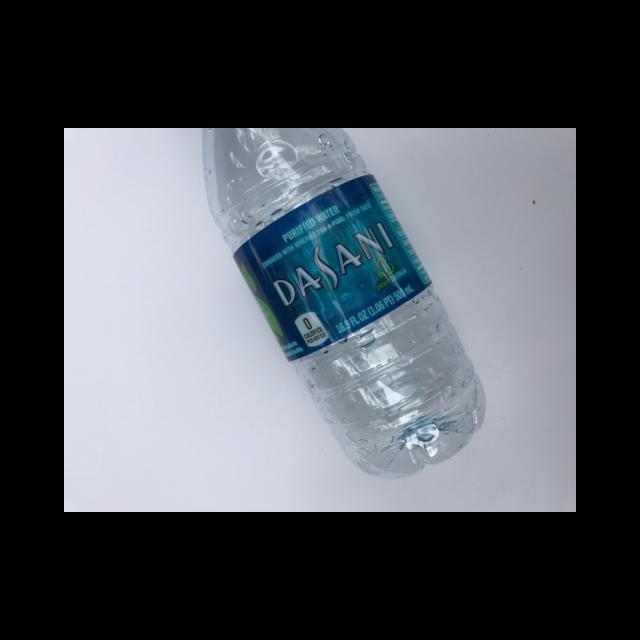plastic: (201, 128, 484, 478), (230, 171, 430, 361)
